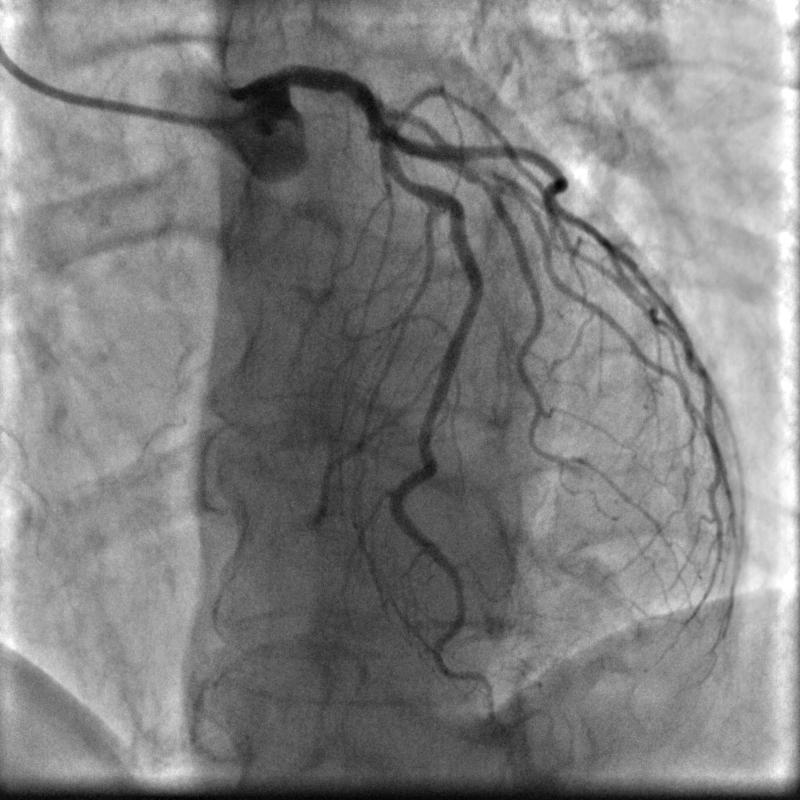Stenosis: (389, 165, 418, 190)
